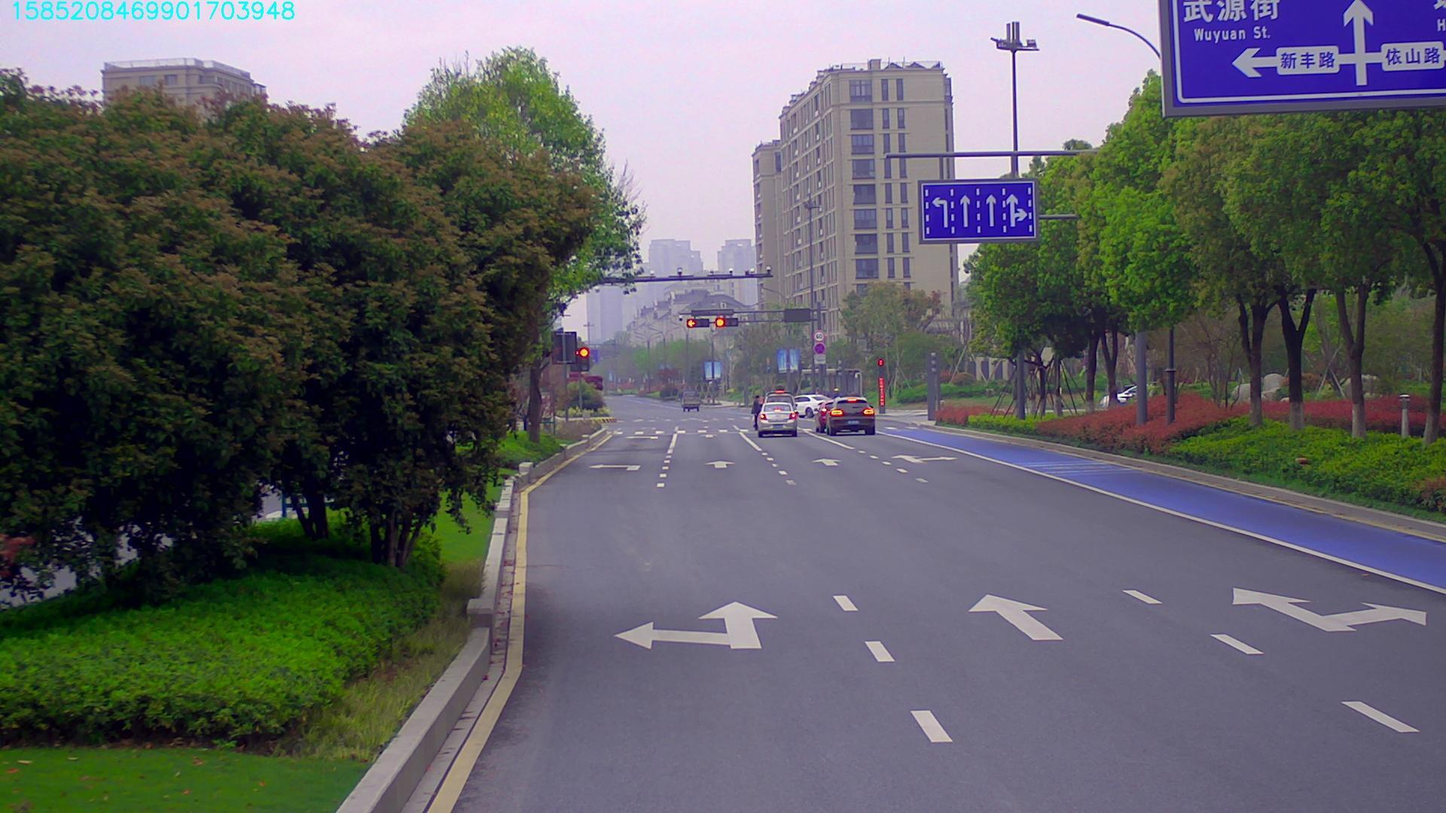red: (713, 317, 731, 330), (685, 315, 706, 324)
